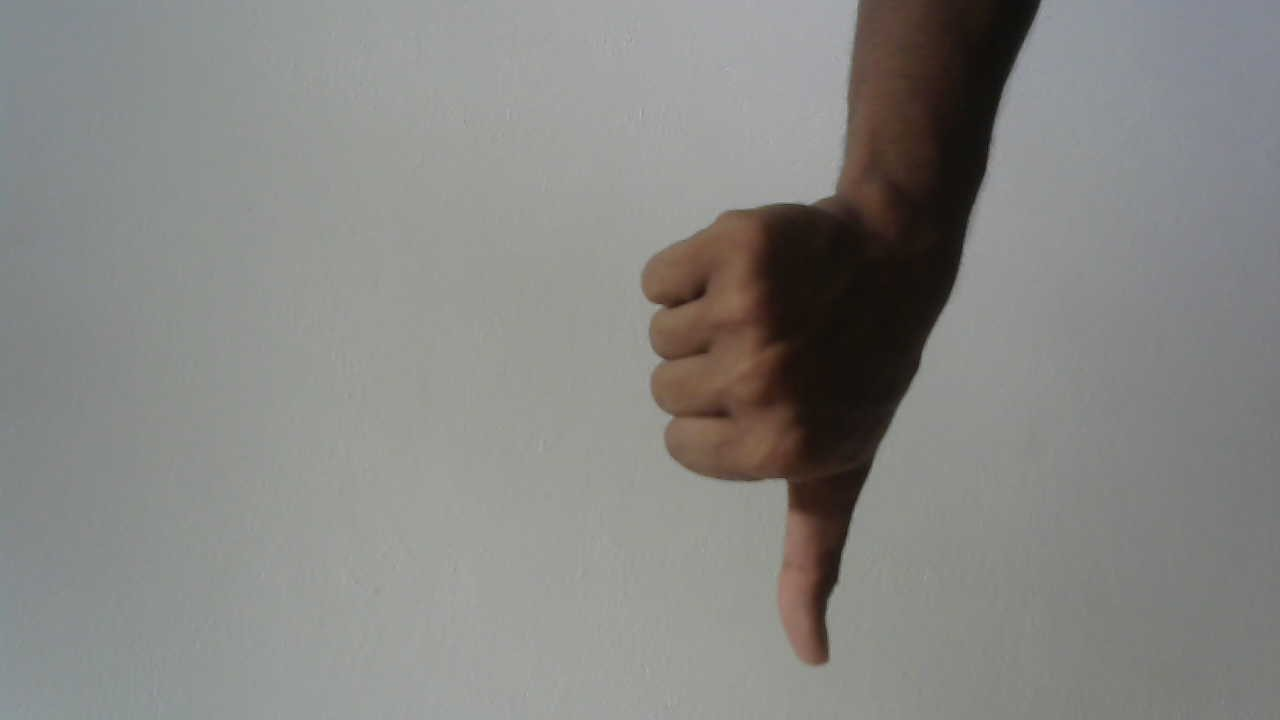thumbsdown: (625, 157, 976, 688)
